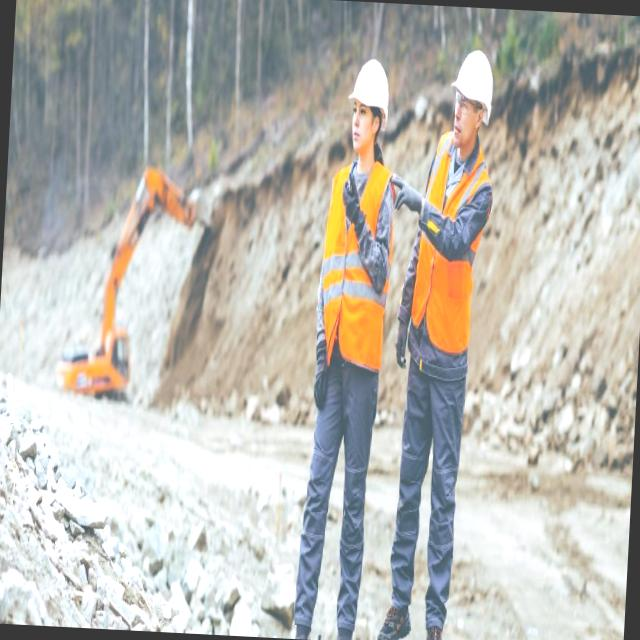helmet: (344, 56, 398, 129), (446, 49, 496, 118)
vest: (404, 138, 494, 360), (309, 150, 394, 385)
